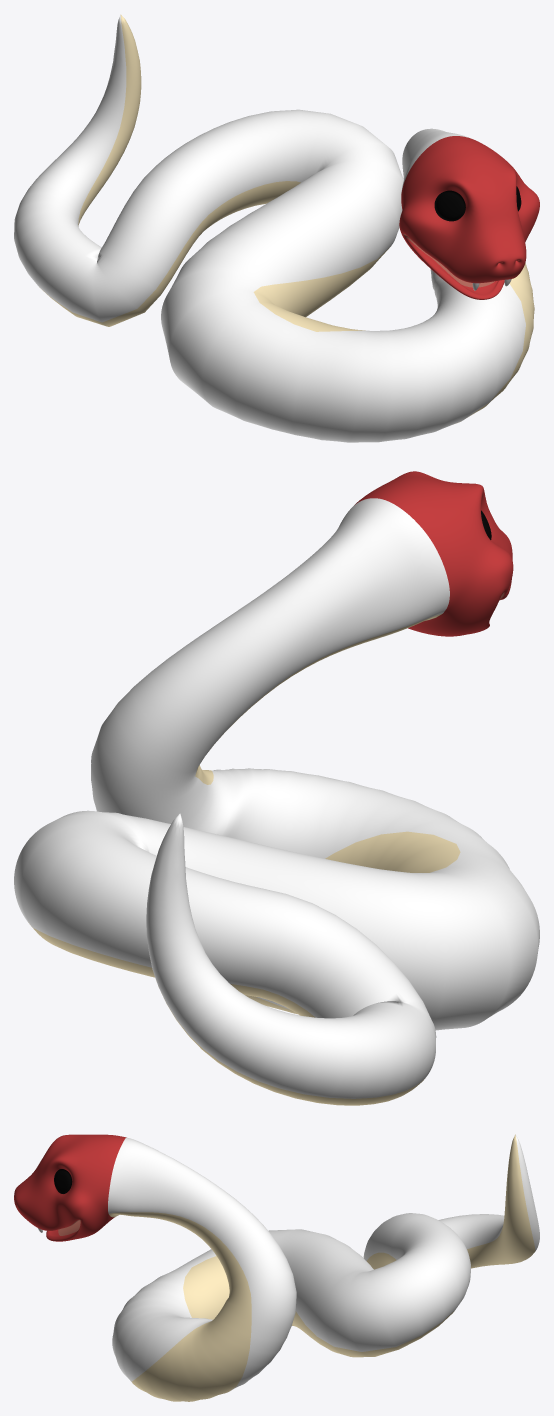
Rendered from Cool_Pose.glb.
3 renders of one model, top to bottom at view 1: azimuth 30°, elevation 25°; view 2: azimuth 150°, elevation 25°; view 3: azimuth 270°, elevation 25°, orthographic. The views are drawn at different scales.
Parts seen in each view (by area): view 1: Plane.015; view 2: Plane.015; view 3: Plane.015.
Part boxes in pixels (x1,y1,x2,y2): Plane.015: (14,14,539,442); Plane.015: (14,471,539,1105); Plane.015: (14,1134,539,1401).
Bounding box in the file's own units: 7.29 × 6.03 × 11.58.
